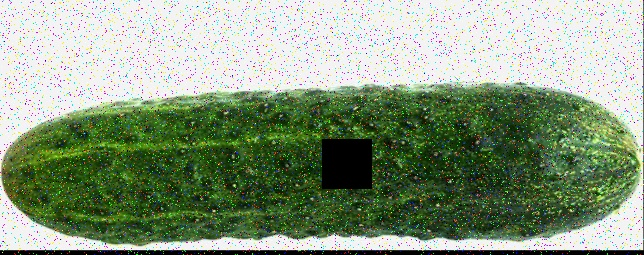cucumber: (2, 80, 642, 243)
